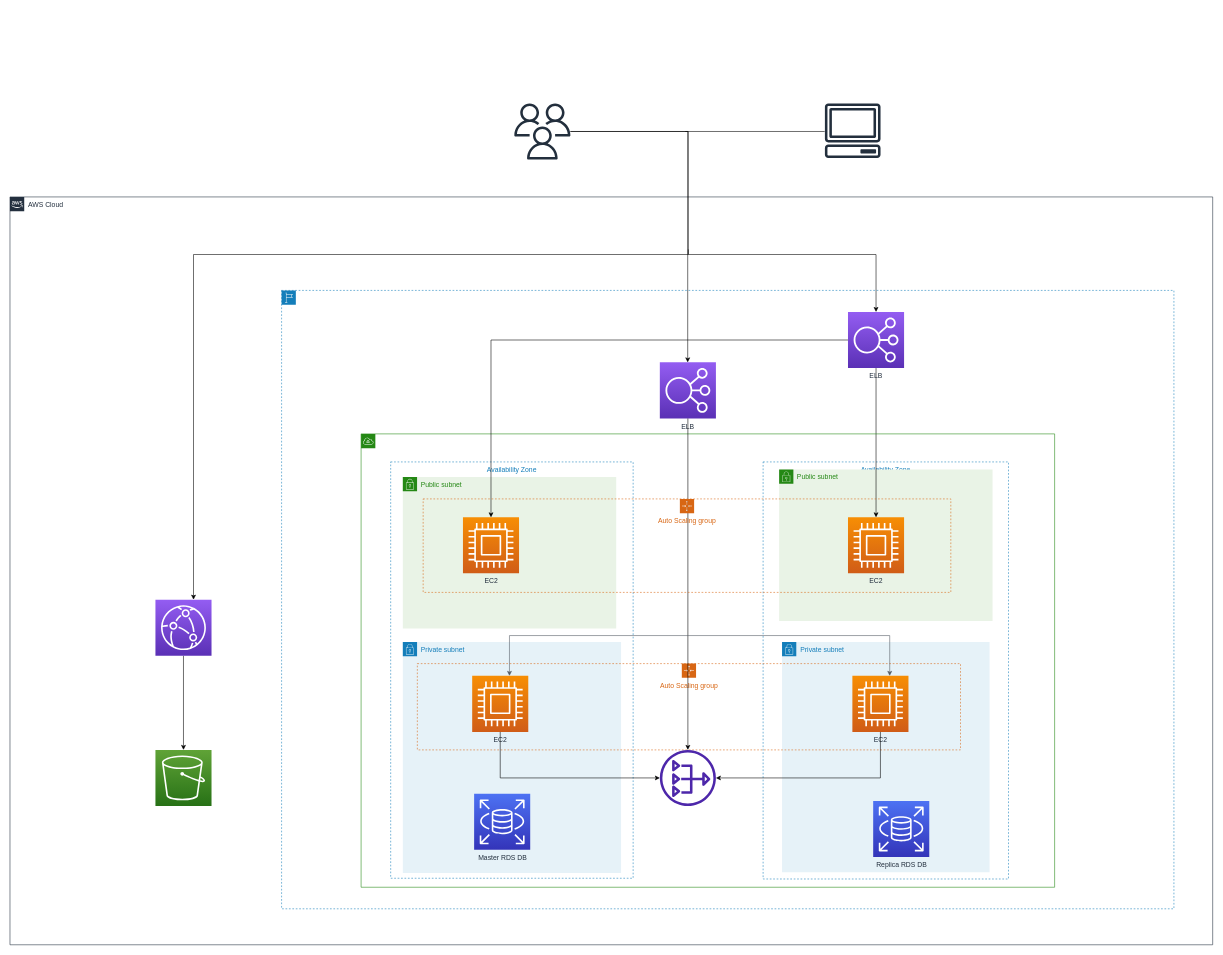
The diagram is 1223 pixels wide and 955 high, and some of its shapes have lost their labels. The shapes that lost their labels are listed below. From the top down, each one's box as (x1, y1, x2, y2) in pixels, then its label:
(514, 103, 570, 159): Users
(824, 103, 880, 158): Clients
(281, 290, 1174, 909): Region: us-east-1
(155, 599, 212, 656): CloudFront
(361, 433, 1055, 887): VPC
(155, 749, 212, 806): ASmaazon S3 Bucket
(660, 750, 716, 806): NAT Gateway
